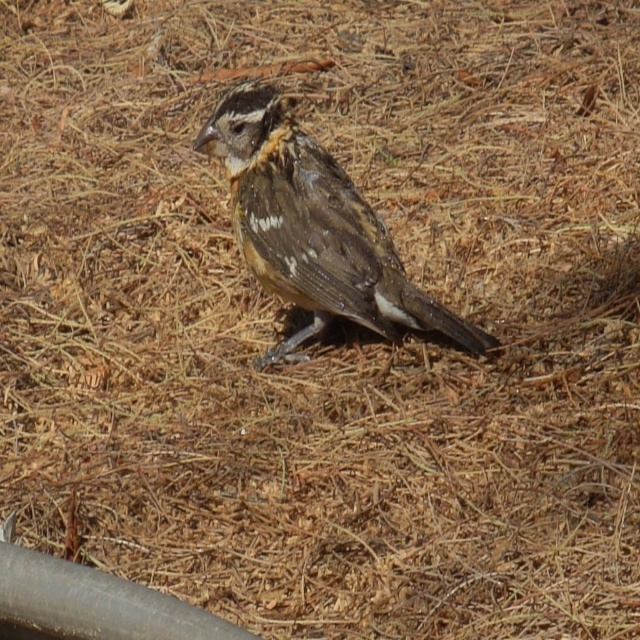Sparrow: (192, 81, 507, 359)
